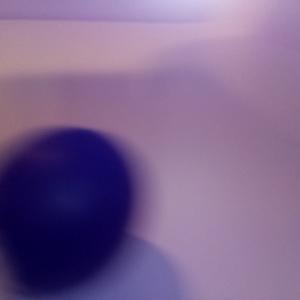dead_ball: (1, 129, 133, 291)
